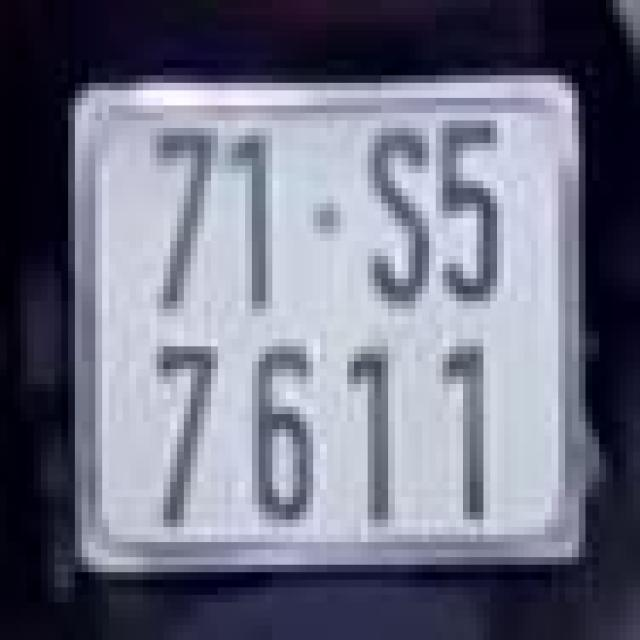1: (341, 323, 422, 534), (439, 312, 501, 524), (228, 113, 289, 316)
5: (432, 113, 521, 316)
6: (249, 338, 330, 534)
7: (146, 335, 222, 538), (140, 125, 221, 312)
S: (361, 113, 436, 316)
